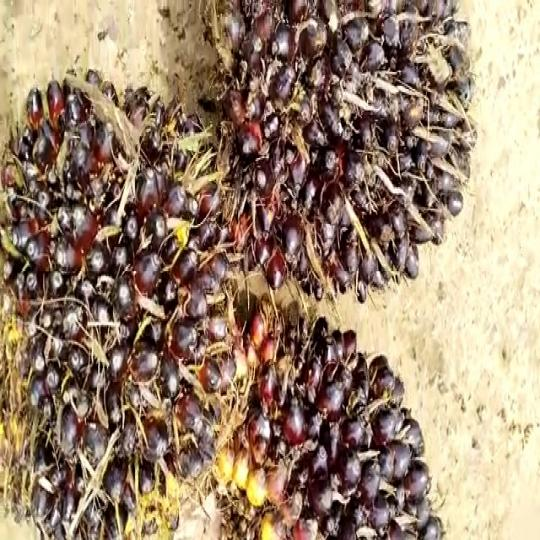mentah: (0, 72, 229, 540), (198, 0, 482, 302), (218, 297, 464, 540)
